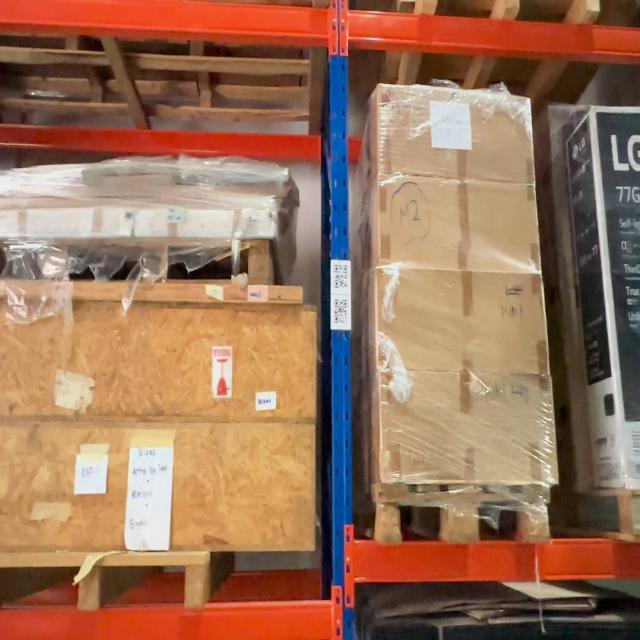box: (380, 377, 552, 481), (374, 276, 542, 370), (377, 185, 535, 262), (377, 98, 531, 174)
